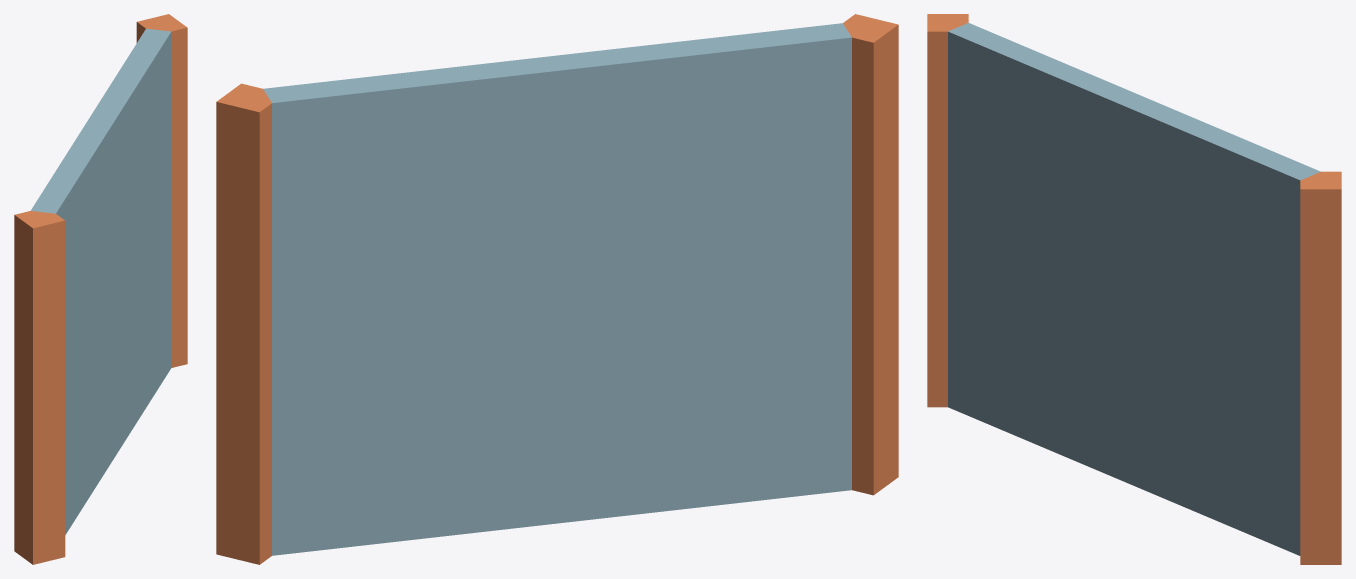
File: wallDiagonal.fbx
3 renders of one model, left to right at view 1: azimuth 30°, elevation 25°; view 2: azimuth 150°, elevation 25°; view 3: azimuth 270°, elevation 25°, orthographic. The views are drawn at different scales.
Parts seen in each view (by area): view 1: wallDiagonal; view 2: wallDiagonal; view 3: wallDiagonal.
Boxes of the visible parts, bbox=[...] form: wallDiagonal: bbox=[14, 14, 187, 564]; wallDiagonal: bbox=[216, 14, 898, 564]; wallDiagonal: bbox=[927, 14, 1341, 564].
Bounding box in the file's own units: 10 × 10 × 10.
